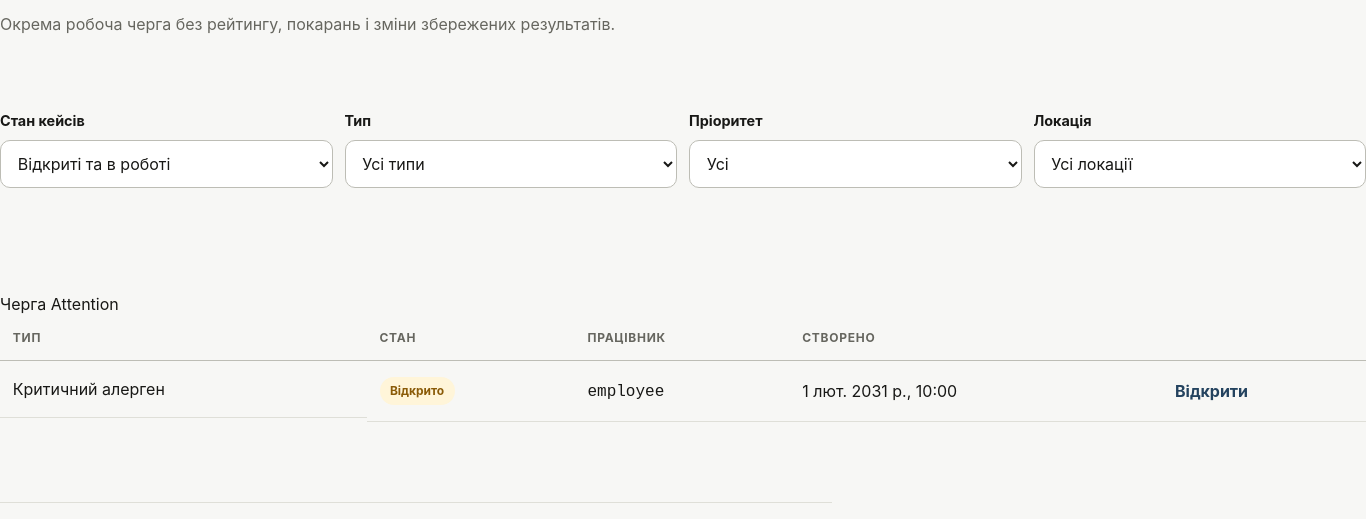
Test: renders responsive queues, acknowledges and creates a proposed requirement explicitly
Expected: the table is shown, [0,316,1365,422]
Click the button "Відкрити" at (1212,391), box [1175,379,1248,403]
(page scrolled)
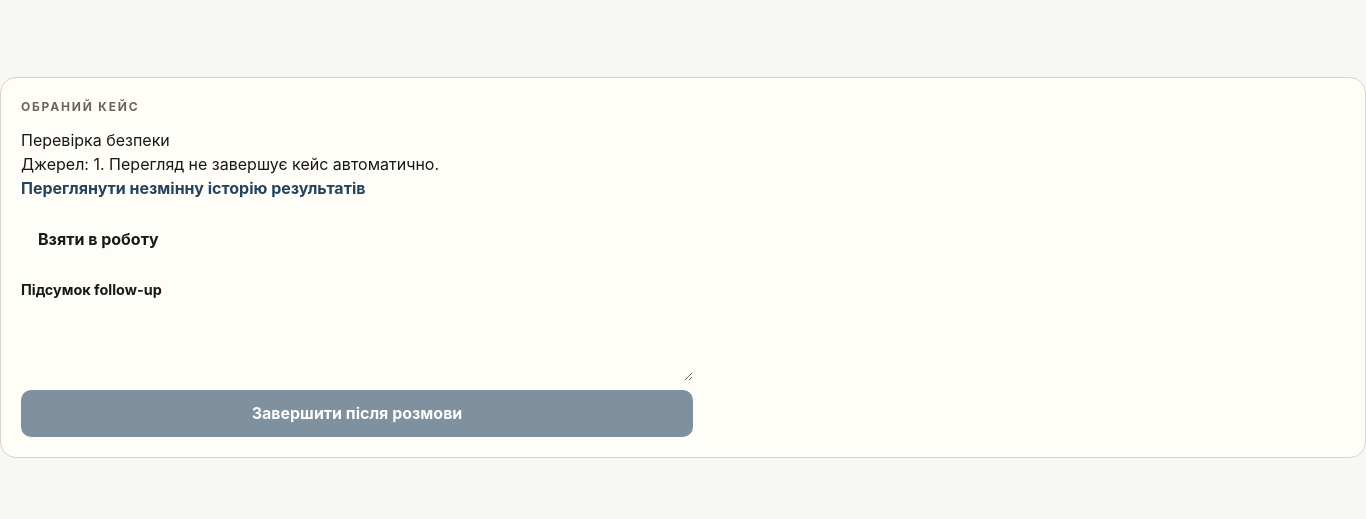
Click the button "Взяти в роботу" at (98,239), box [21,216,176,263]
(page scrolled)
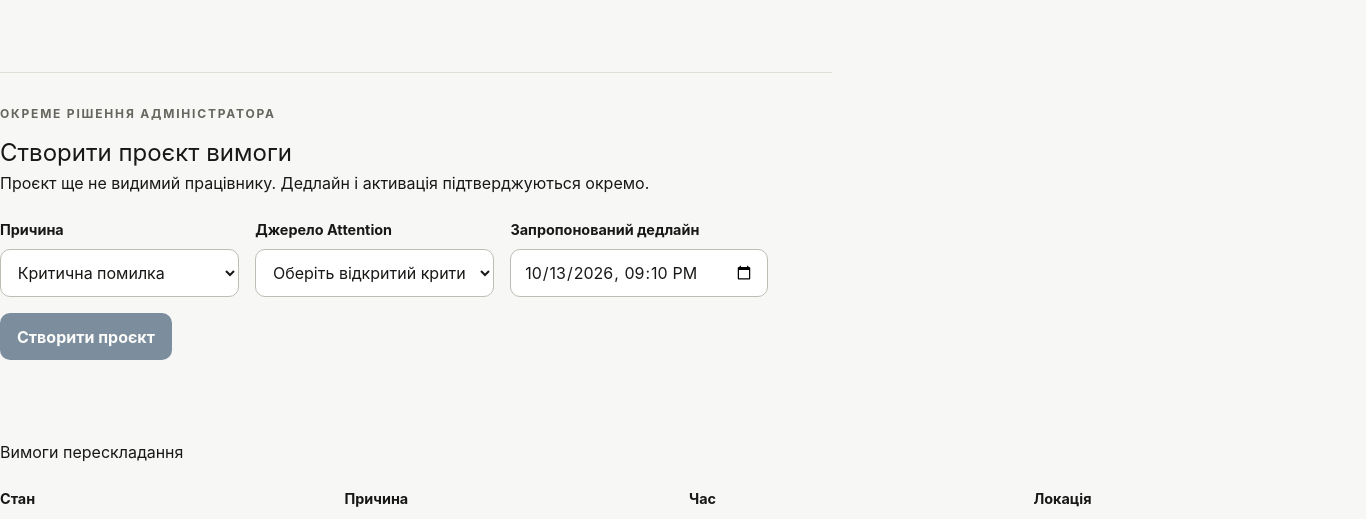
Select "employee · menu_item:item-1:allergen:allergen-1" in the dropdown labelled "Джерело Attention" at (375,273), box [255,249,494,297]
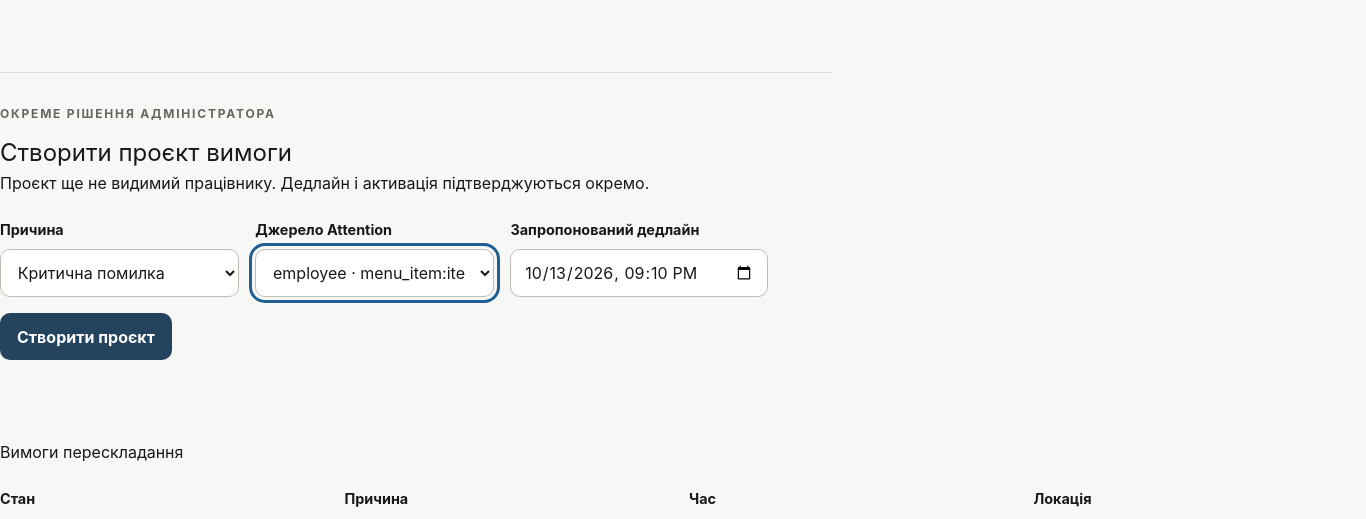
Click the button "Створити проєкт" at (86,337), box [0,313,172,360]
(page scrolled)
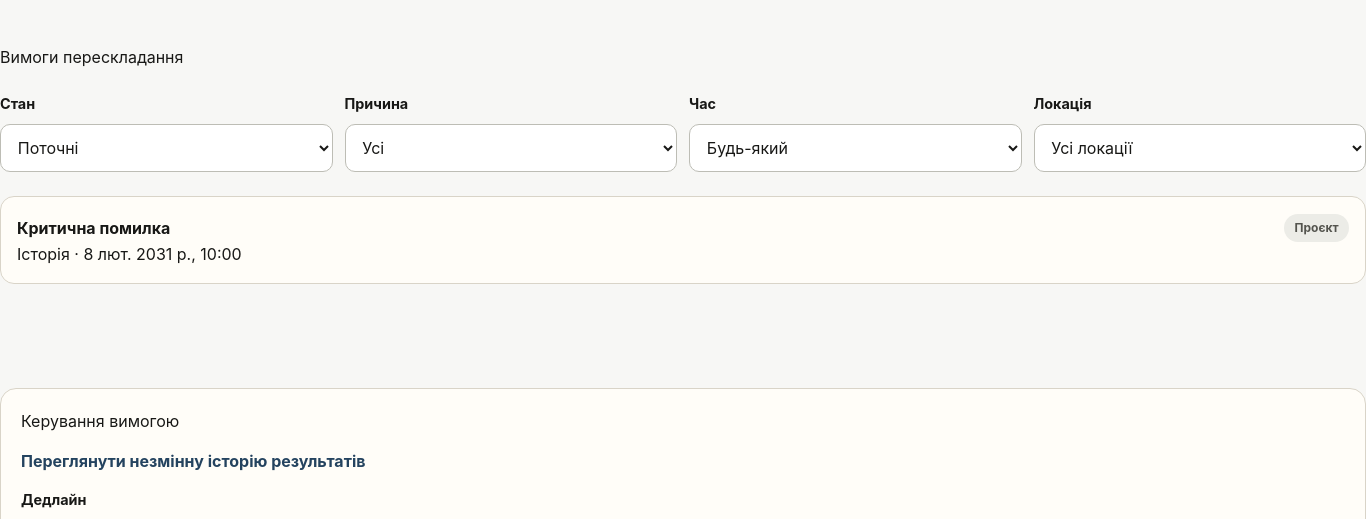
Expected: the button "Критична помилка Проєкт Історія · 8 лют. 2031 р., 10:00" is shown, [0,196,1365,284]
